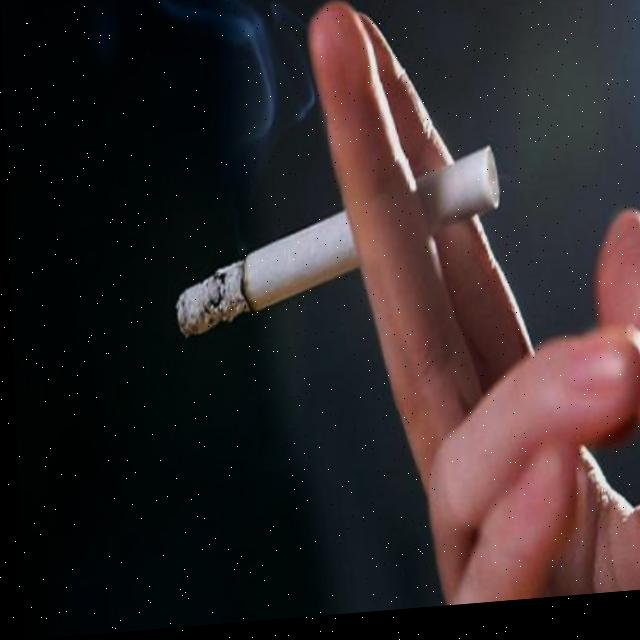cigarette: (167, 149, 504, 347)
